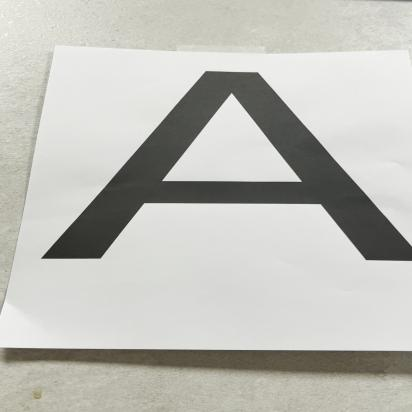seat: (60, 58, 412, 319)
